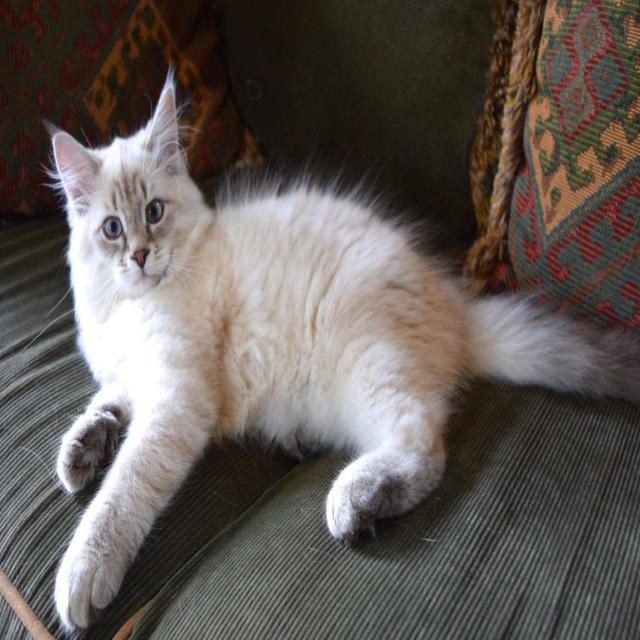Neva Masquerade: (46, 73, 640, 637)
